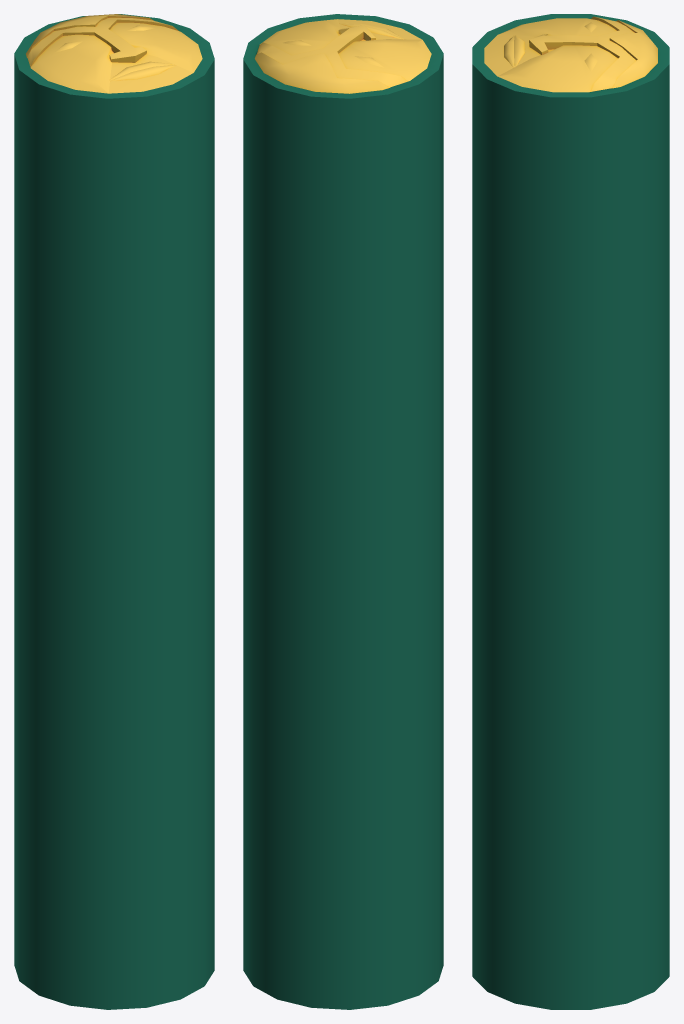
Rendered from elevator01.fbx.
3 renders of one model, left to right at view 1: azimuth 30°, elevation 25°; view 2: azimuth 150°, elevation 25°; view 3: azimuth 270°, elevation 25°, orthographic.
Parts seen in each view (by area): view 1: elevator01_geo, elevator01Mask_geo; view 2: elevator01_geo, elevator01Mask_geo; view 3: elevator01_geo, elevator01Mask_geo.
Boxes of the visible parts, <box> form: elevator01_geo: <box>14,14,214,1009</box>; elevator01Mask_geo: <box>26,14,202,93</box>; elevator01_geo: <box>243,14,443,1009</box>; elevator01Mask_geo: <box>254,19,431,93</box>; elevator01_geo: <box>472,14,669,1009</box>; elevator01Mask_geo: <box>484,16,657,92</box>.
Bounding box in the file's own units: 196 × 1019 × 196.
2 materials, 2 textured.
